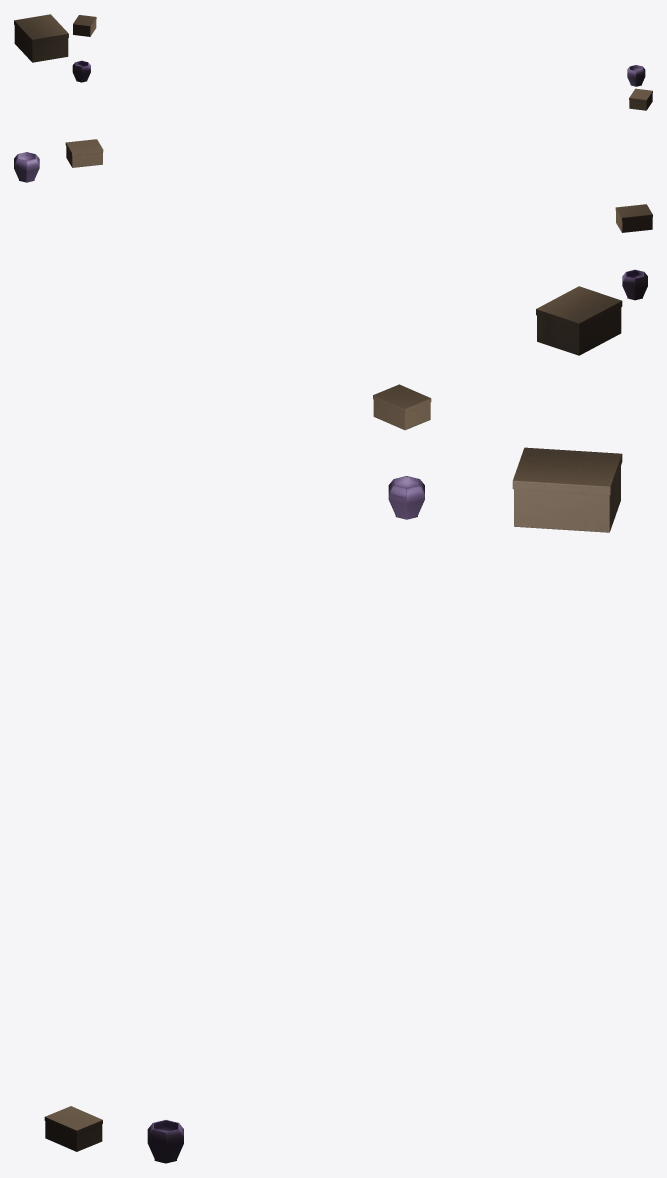
Rendered from misc.glb.
3 renders of one model, top to bottom at view 1: azimuth 30°, elevation 25°; view 2: azimuth 150°, elevation 25°; view 3: azimuth 270°, elevation 25°, orthographic. The views are drawn at different scales.
Visible parts, largest first — view 1: box_Baked, box.002_Baked, box.001_Baked, vase.001_Baked, vase_Baked; view 2: box_Baked, box.002_Baked, box.001_Baked, vase.001_Baked, vase_Baked; view 3: box_Baked, box.001_Baked, box.002_Baked, vase.001_Baked, vase_Baked.
Part boxes in pixels (left/top/right/bottom): box_Baked: left=14, top=14, right=68, bottom=62; box.002_Baked: left=629, top=88, right=652, bottom=110; box.001_Baked: left=73, top=15, right=96, bottom=36; vase.001_Baked: left=72, top=60, right=90, bottom=82; vase_Baked: left=627, top=65, right=645, bottom=86; box_Baked: left=536, top=286, right=622, bottom=355; box.002_Baked: left=65, top=139, right=103, bottom=167; box.001_Baked: left=615, top=204, right=652, bottom=232; vase.001_Baked: left=622, top=269, right=647, bottom=300; vase_Baked: left=14, top=152, right=39, bottom=182; box_Baked: left=512, top=447, right=622, bottom=532; box.001_Baked: left=373, top=384, right=431, bottom=430; box.002_Baked: left=44, top=1106, right=102, bottom=1151; vase.001_Baked: left=388, top=476, right=424, bottom=519; vase_Baked: left=147, top=1120, right=183, bottom=1163.
Size of the model in its own units: 4.5 by 1.15 by 2.15.
1 material, 1 textured.
